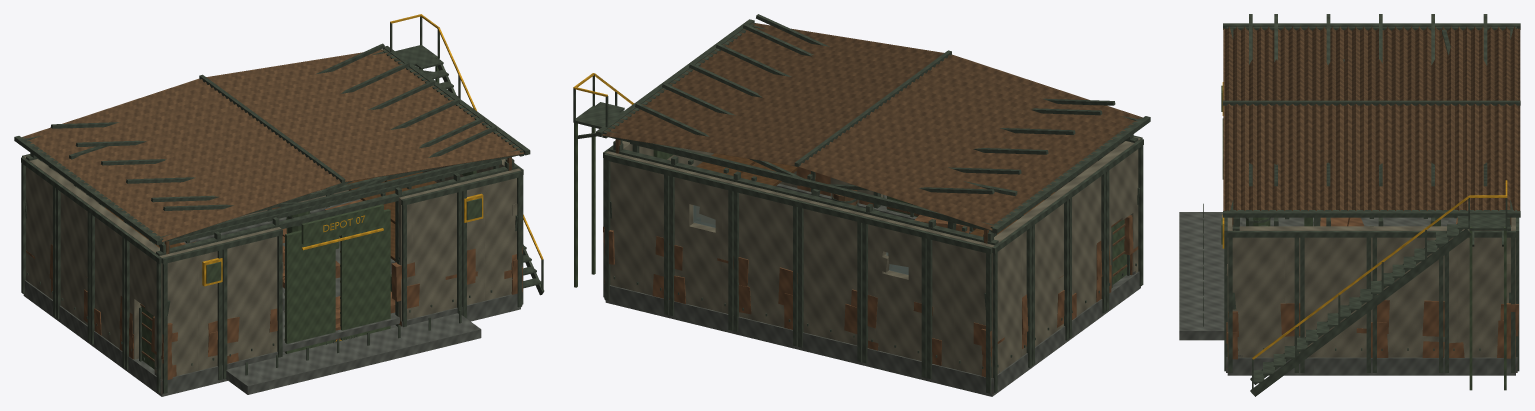
File: magazijn.glb
The picture shows the model from 3 angles, left to right: view 1: azimuth 30°, elevation 25°; view 2: azimuth 150°, elevation 25°; view 3: azimuth 270°, elevation 25°; orthographic projection. The views are drawn at different scales.
Visible parts, largest first — view 1: Dak_heel, Gevel, M002_heel, M000_heel, M001_heel, Dakspanten, M003_heel, Schuifdeur paneel, M012_heel, Schuifdeur paneel.001, M013_heel, M011_heel (+11 smaller); view 2: Dak_heel, Gevel, M004_heel, M006_heel, M005_heel, M008_heel, M009_heel, M007_heel, M013_heel, Dakspanten, M012_heel, M011_heel (+16 smaller); view 3: Dak_heel, Gevel, M014_heel, M015_heel, M017_heel, M016_heel, Dakrand, Dakspanten, M016_kapot, M014_kapot, M017_kapot, M003_heel (+6 smaller).
Boxes of the visible parts, <box> form: Dak_heel: <box>21,49,524,241</box>; Gevel: <box>22,14,544,396</box>; M002_heel: <box>398,183,462,327</box>; M000_heel: <box>159,241,223,394</box>; M001_heel: <box>219,227,282,379</box>; Dakspanten: <box>48,43,501,246</box>; M003_heel: <box>459,170,522,319</box>; Schuifdeur paneel: <box>284,230,335,353</box>; M012_heel: <box>55,180,100,342</box>; Schuifdeur paneel.001: <box>340,209,390,340</box>; M013_heel: <box>21,157,65,317</box>; M011_heel: <box>90,205,135,367</box>; Dak_heel: <box>601,23,1142,230</box>; Gevel: <box>573,23,1142,396</box>; M004_heel: <box>926,229,994,394</box>; M006_heel: <box>797,198,865,362</box>; M005_heel: <box>861,214,929,378</box>; M008_heel: <box>668,167,736,331</box>; M009_heel: <box>604,152,672,315</box>; M007_heel: <box>733,182,800,347</box>; M013_heel: <box>983,218,1032,394</box>; Dakspanten: <box>630,14,1117,236</box>; M012_heel: <box>1021,190,1069,365</box>; M011_heel: <box>1058,163,1106,338</box>; Dak_heel: <box>1223,26,1520,210</box>; Gevel: <box>1179,26,1516,396</box>; M014_heel: <box>1227,226,1299,373</box>; M015_heel: <box>1299,226,1371,373</box>; M017_heel: <box>1444,226,1515,373</box>; M016_heel: <box>1371,226,1443,373</box>; Dakrand: <box>1223,23,1520,217</box>; Dakspanten: <box>1248,14,1487,226</box>; M016_kapot: <box>1371,262,1444,357</box>; M014_kapot: <box>1226,245,1300,343</box>; M017_kapot: <box>1449,275,1518,357</box>; M003_heel: <box>1224,217,1237,372</box>.
Bounding box in the file's own units: 13.38 × 6.14 × 9.46.
Materials: 10 (8 with a texture image).
